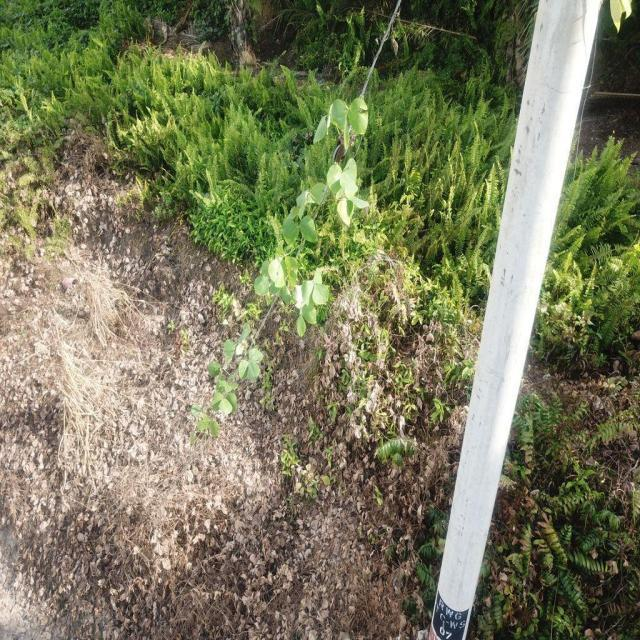critical vegetation: (171, 89, 376, 461)
